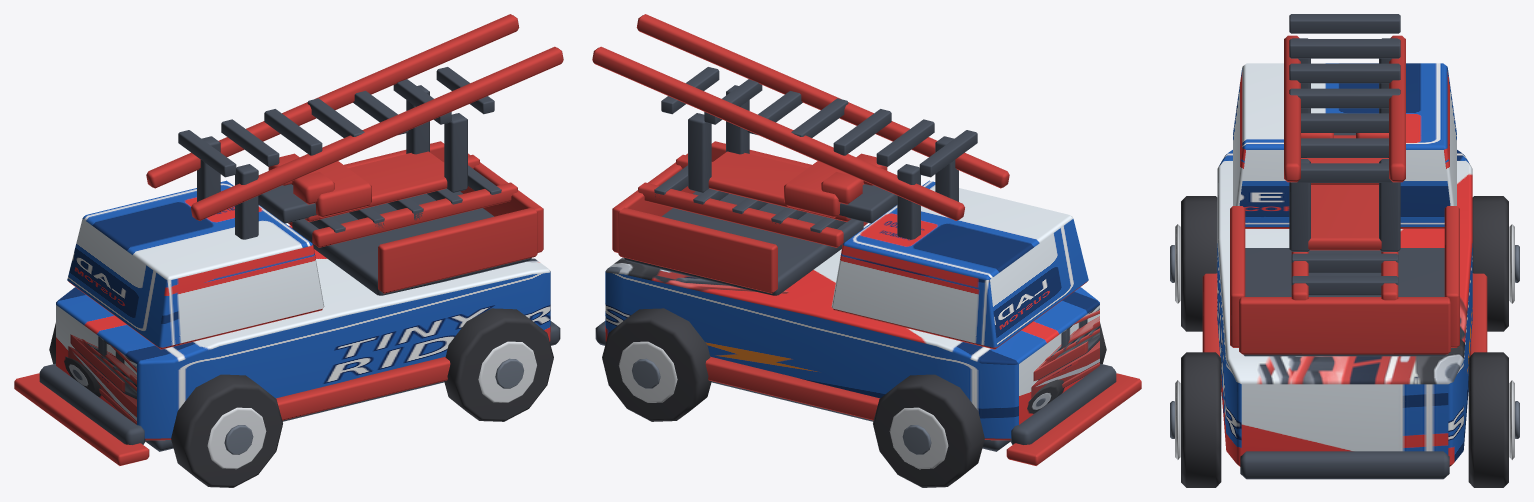
3 renders of one model, left to right at view 1: azimuth 30°, elevation 25°; view 2: azimuth 150°, elevation 25°; view 3: azimuth 270°, elevation 25°, orthographic. The views are drawn at different scales.
Visible parts, largest first — view 1: RC-03_connected_shell, RC-03_cabin, cargo side, long elevated ladder rail, Tire, Tire.002, long elevated ladder rail.001, cargo floor, custom side guard, raised ladder extension, folded ladder rail, custom chin (+21 smaller); view 2: RC-03_connected_shell, RC-03_cabin, cargo side.001, long elevated ladder rail.001, Tire.001, Tire.003, long elevated ladder rail, cargo floor, custom side guard.001, raised ladder extension, folded ladder rail.001, custom chin (+21 smaller); view 3: RC-03_connected_shell, RC-03_cabin, cargo tail, rear bumper, cargo floor, Tire.002, Tire.003, raised ladder extension, Tire, Tire.001, elevated ladder rung.002, elevated ladder rung (+22 smaller).
Boxes of the visible parts, left/top/right/bottom form: RC-03_connected_shell: left=56, top=225, right=550, bottom=440; RC-03_cabin: left=67, top=180, right=324, bottom=349; cargo side: left=378, top=207, right=537, bottom=293; long elevated ladder rail: left=191, top=46, right=563, bottom=220; Tire: left=171, top=374, right=282, bottom=487; Tire.002: left=444, top=308, right=553, bottom=421; long elevated ladder rail.001: left=146, top=14, right=519, bottom=188; cargo floor: left=292, top=191, right=531, bottom=295; custom side guard: left=276, top=356, right=450, bottom=420; raised ladder extension: left=305, top=151, right=447, bottom=221; folded ladder rail: left=312, top=182, right=517, bottom=247; custom chin: left=14, top=373, right=149, bottom=465; RC-03_connected_shell: left=605, top=225, right=1099, bottom=440; RC-03_cabin: left=831, top=180, right=1088, bottom=349; cargo side.001: left=618, top=207, right=777, bottom=293; long elevated ladder rail.001: left=592, top=46, right=964, bottom=220; Tire.001: left=873, top=374, right=984, bottom=487; Tire.003: left=602, top=308, right=711, bottom=421; long elevated ladder rail: left=636, top=14, right=1009, bottom=188; cargo floor: left=624, top=191, right=863, bottom=295; custom side guard.001: left=705, top=356, right=879, bottom=420; raised ladder extension: left=708, top=151, right=850, bottom=221; folded ladder rail.001: left=638, top=182, right=843, bottom=247; custom chin: left=1006, top=373, right=1141, bottom=465; RC-03_connected_shell: left=1217, top=150, right=1472, bottom=466; RC-03_cabin: left=1233, top=63, right=1456, bottom=228; cargo tail: left=1239, top=297, right=1450, bottom=354; rear bumper: left=1240, top=451, right=1449, bottom=479; cargo floor: left=1243, top=248, right=1446, bottom=356; Tire.002: left=1181, top=352, right=1221, bottom=487; Tire.003: left=1468, top=352, right=1508, bottom=487; raised ladder extension: left=1308, top=185, right=1381, bottom=250; Tire: left=1181, top=196, right=1217, bottom=331; Tire.001: left=1472, top=196, right=1508, bottom=331; elevated ladder rung.002: left=1289, top=63, right=1400, bottom=83; elevated ladder rung: left=1289, top=14, right=1400, bottom=33.
Bounding box in the file's own units: 418 × 267 × 226.
